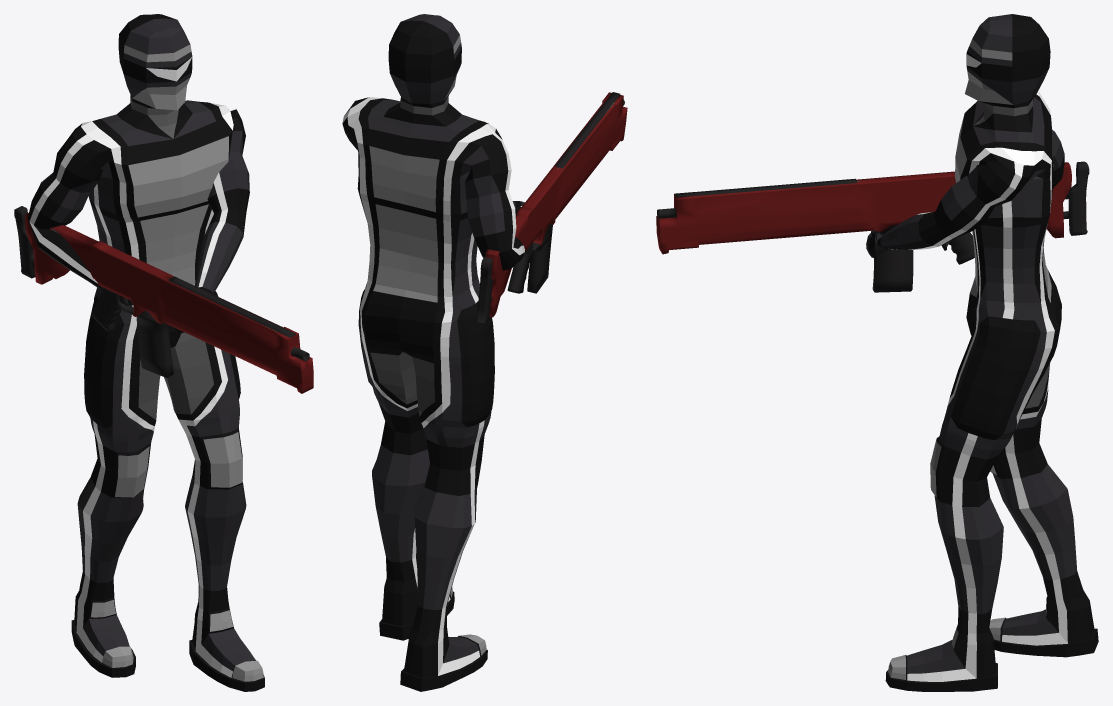
Rendered from ASI4.obj.
3 views of the same model, side by side, from view 1: azimuth 30°, elevation 25°; view 2: azimuth 150°, elevation 25°; view 3: azimuth 270°, elevation 25° (orthographic).
Parts seen in each view (by area): view 1: metarig_object_metarig_mesh, metarig_object.001_metarig_mesh.001; view 2: metarig_object_metarig_mesh, metarig_object.001_metarig_mesh.001; view 3: metarig_object_metarig_mesh, metarig_object.001_metarig_mesh.001.
Part boxes in pixels (x1,y1,x2,y2): metarig_object_metarig_mesh: (27,14,264,691); metarig_object.001_metarig_mesh.001: (14,206,313,393); metarig_object_metarig_mesh: (342,14,524,691); metarig_object.001_metarig_mesh.001: (476,92,627,325); metarig_object_metarig_mesh: (866,14,1098,691); metarig_object.001_metarig_mesh.001: (656,161,1089,292).
Bounding box in the file's own units: 0.5688 × 1.85 × 1.15.
2 materials, 2 textured.
